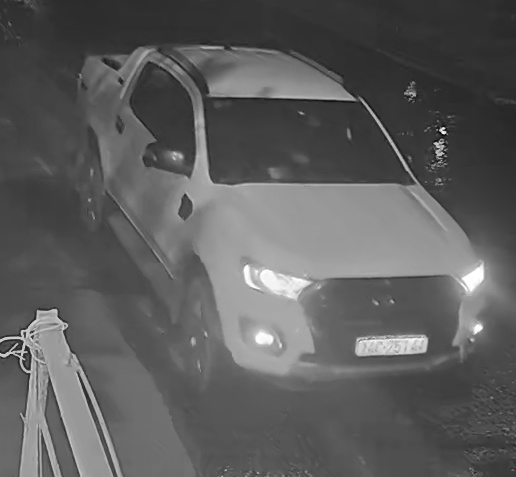vehicle plate: (353, 330, 434, 357)
